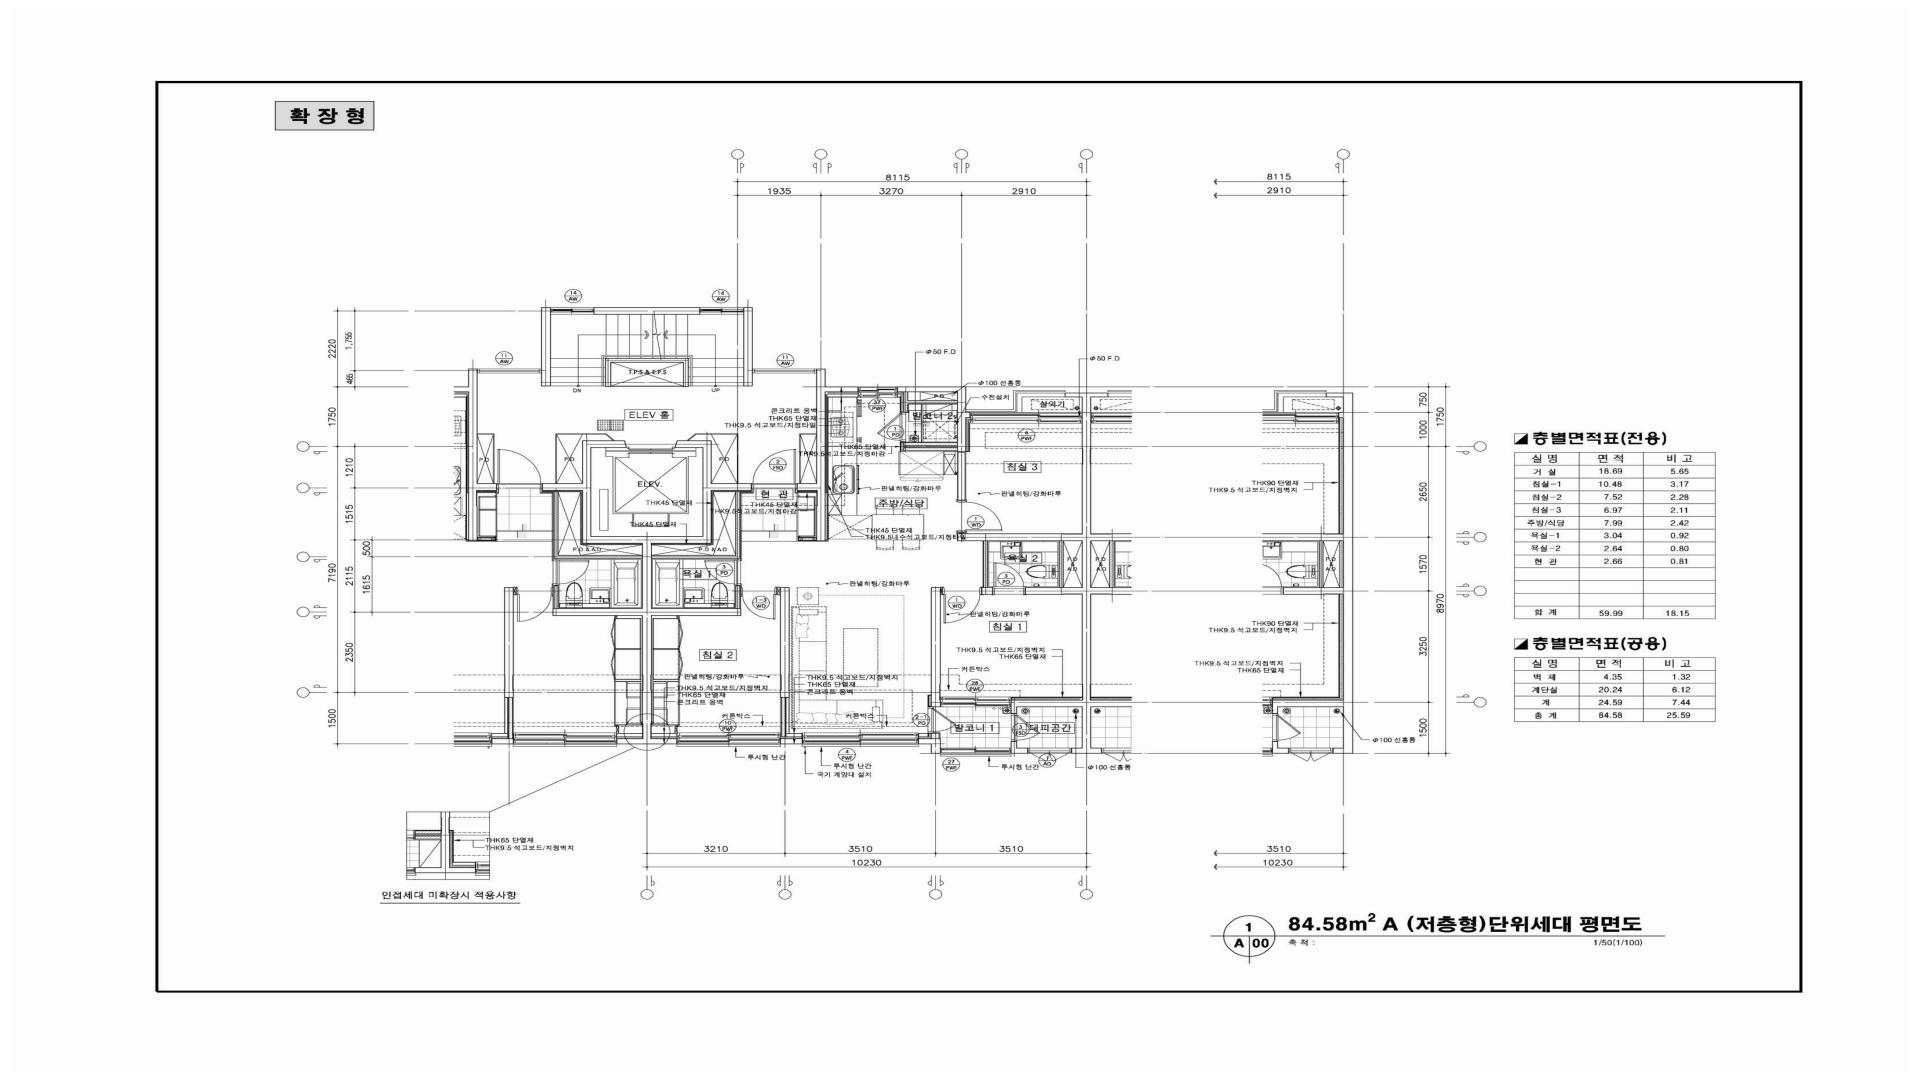door: (497, 448, 542, 489), (752, 448, 796, 488), (940, 587, 981, 624), (957, 501, 1002, 533), (741, 587, 777, 620), (993, 562, 1025, 595), (705, 559, 741, 585), (877, 413, 906, 442), (1011, 713, 1039, 741), (928, 707, 956, 733)
wall: (542, 440, 752, 744), (957, 393, 1092, 754), (796, 369, 858, 542), (651, 492, 741, 559), (897, 386, 971, 452), (468, 369, 497, 491), (555, 434, 615, 483), (687, 434, 738, 484), (605, 359, 688, 386), (777, 587, 790, 698), (903, 392, 957, 413), (931, 587, 940, 707), (477, 434, 495, 483), (799, 434, 816, 483), (781, 698, 802, 737), (541, 307, 550, 386), (744, 307, 753, 386), (593, 307, 700, 314), (957, 452, 967, 501), (919, 738, 940, 754), (1059, 541, 1064, 587), (982, 541, 988, 587), (905, 442, 957, 446), (1011, 741, 1029, 753), (905, 448, 957, 451), (827, 394, 858, 398), (736, 585, 741, 608), (781, 738, 802, 744), (798, 537, 818, 542), (651, 733, 676, 737), (611, 385, 683, 386), (981, 587, 993, 595), (931, 733, 939, 738), (918, 733, 928, 737), (897, 394, 901, 397)
window: (802, 733, 919, 746), (676, 733, 781, 746), (971, 413, 1081, 423), (940, 696, 1011, 707), (940, 748, 1011, 757), (1029, 748, 1072, 761), (858, 386, 897, 398), (700, 307, 744, 314), (550, 307, 593, 314), (477, 369, 541, 373), (753, 369, 816, 373)
